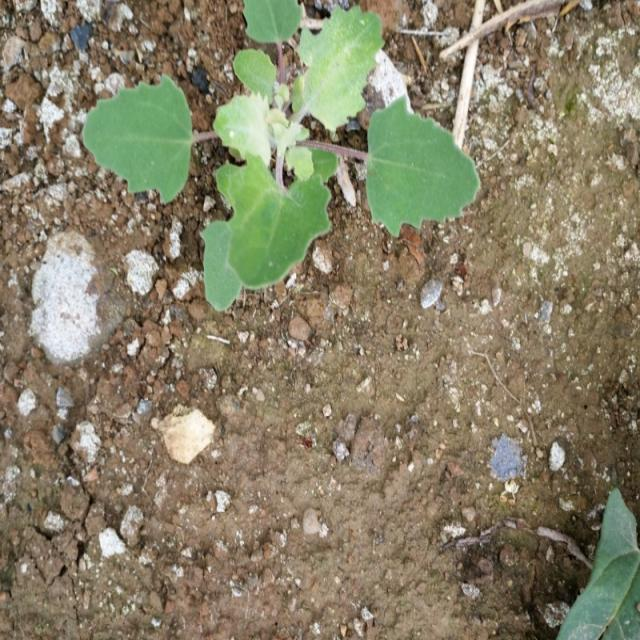ca: (82, 0, 481, 314)
